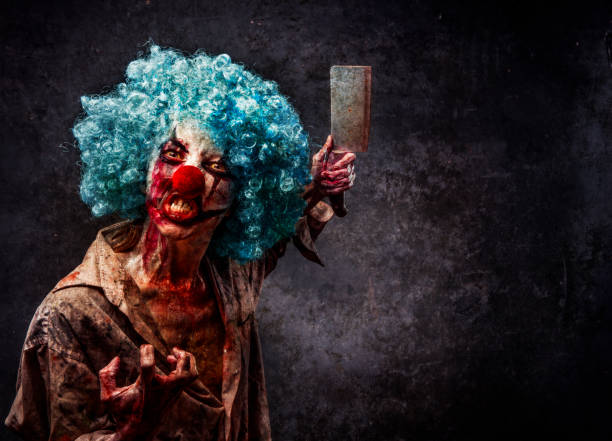handguns: (2, 40, 356, 435)
